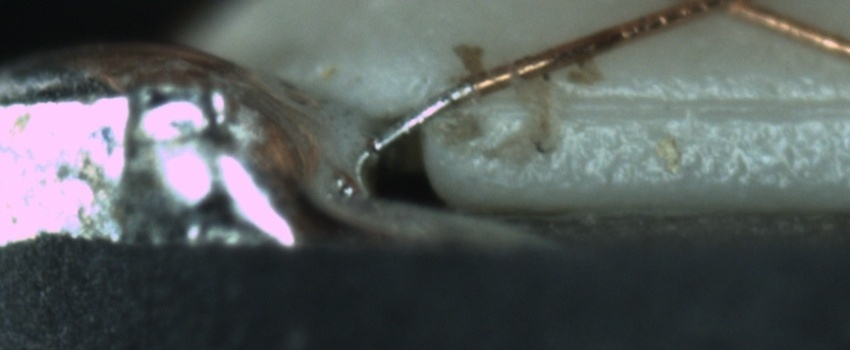CL: (678, 0, 777, 22)
DL: (476, 77, 849, 138)
TS: (375, 82, 474, 150)
